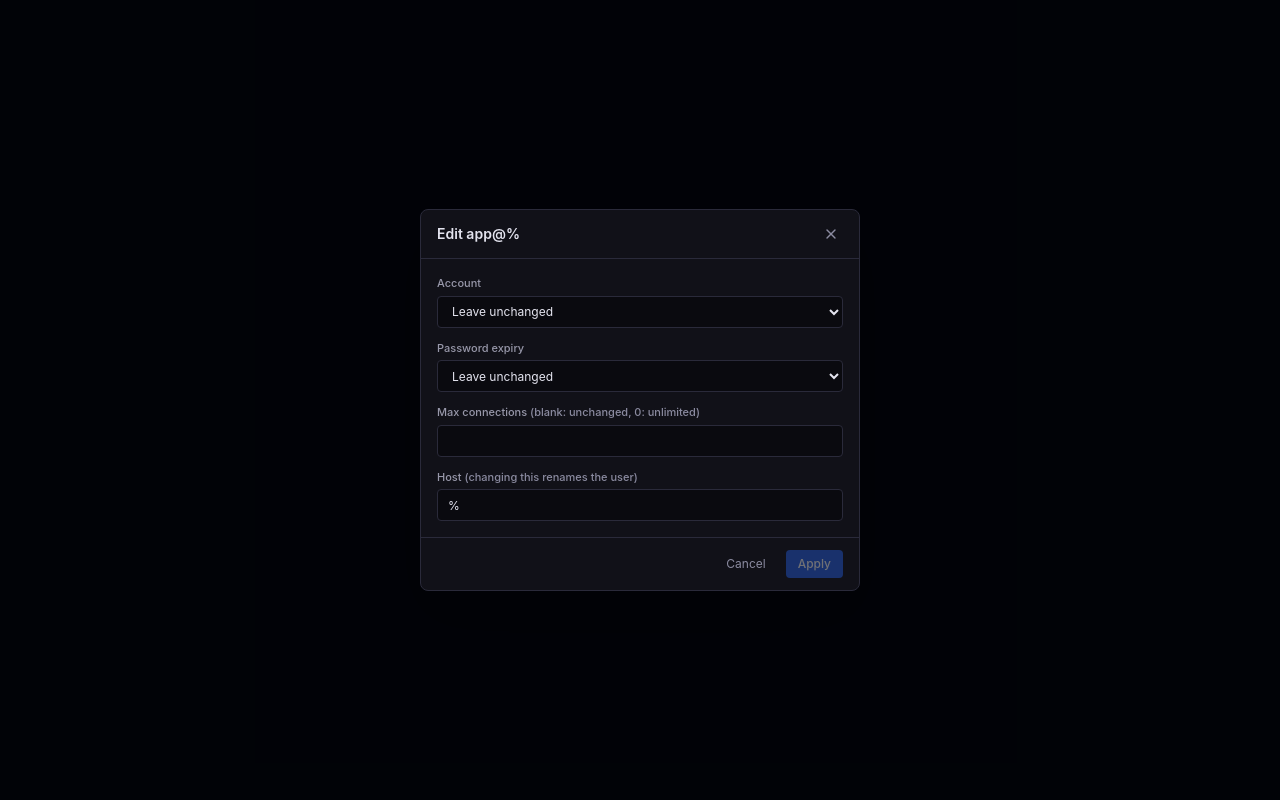
Test case: EditUserDialog (#436) › says nothing was changed when the first statement fails
Select "Lock" in the dropdown labelled "Account" at (640, 312), box [437,296,843,328]
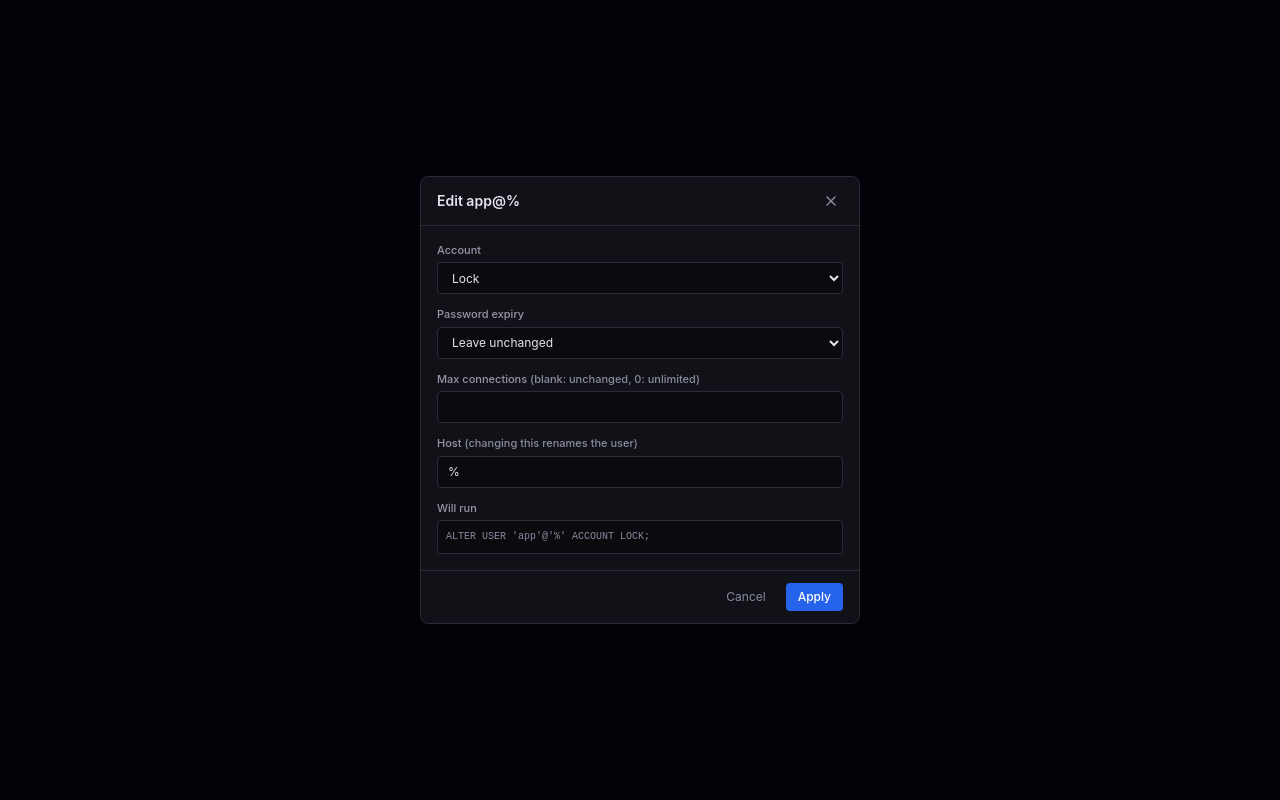
Click the button "Apply" at (814, 597), box [786,583,843,611]
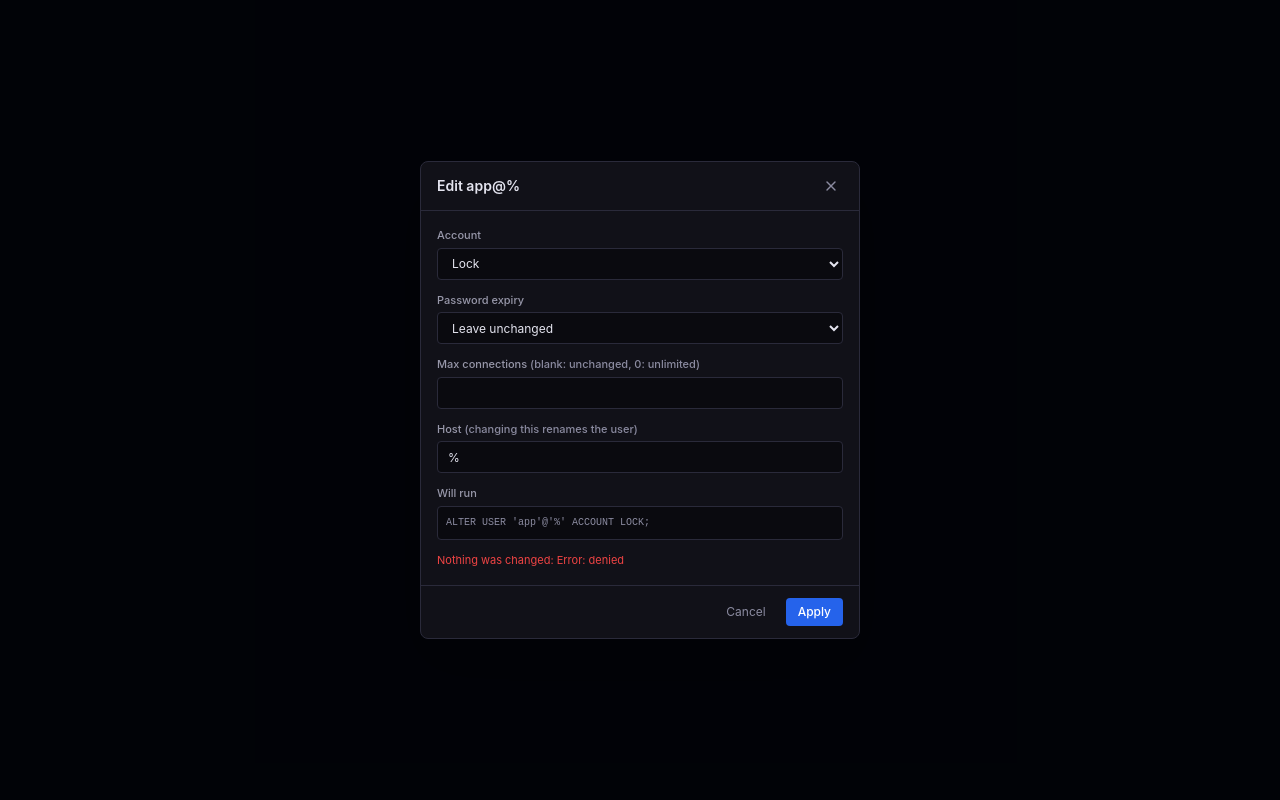
Expected: the message shows "Nothing was changed", [437,553,624,567]
